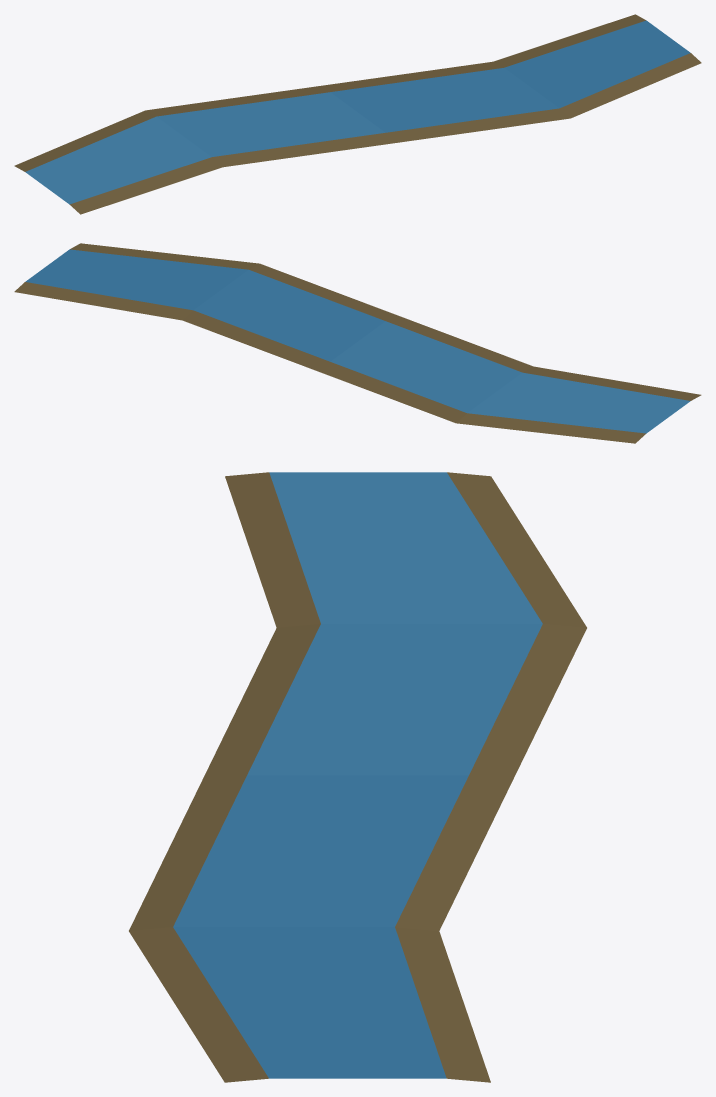
File: River-Bottom.glb
3 views of the same model, one above another, from view 1: azimuth 30°, elevation 25°; view 2: azimuth 150°, elevation 25°; view 3: azimuth 270°, elevation 25° (orthographic). The views are drawn at different scales.
Visible parts, largest first — view 1: River-Bottom; view 2: River-Bottom; view 3: River-Bottom.
Part boxes in pixels (box(x1,y1,x2,y2)): River-Bottom: box(14, 14, 701, 214); River-Bottom: box(14, 243, 701, 443); River-Bottom: box(129, 472, 586, 1082).
Size of the model in its own units: 0.97 by 0.003 by 0.31.
